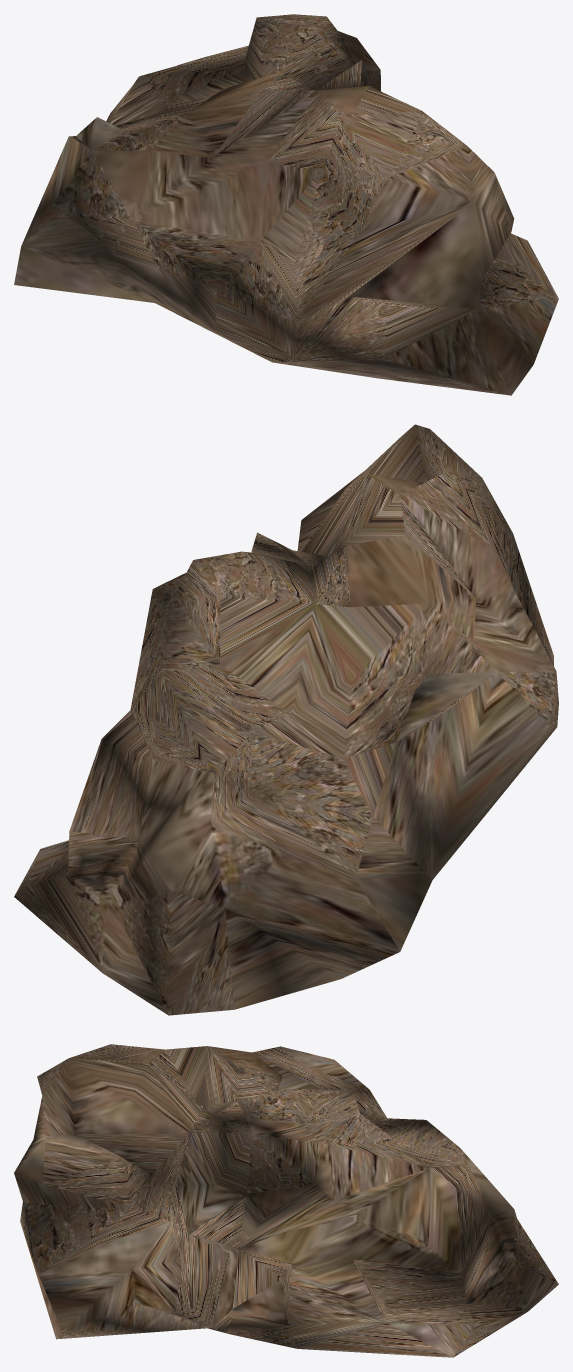
The model's file is boulder_01-lod.glb.
The picture shows the model from 3 angles, top to bottom: view 1: azimuth 30°, elevation 25°; view 2: azimuth 150°, elevation 25°; view 3: azimuth 270°, elevation 25°; orthographic projection. The views are drawn at different scales.
Visible parts, largest first — view 1: near; view 2: near; view 3: near.
Part boxes in pixels (<box>): near: <box>14,14,558,395</box>; near: <box>14,424,558,1015</box>; near: <box>14,1044,558,1357</box>.
Bounding box in the file's own units: 1.25 × 0.9736 × 1.82.
Materials: 1 (1 with a texture image).
